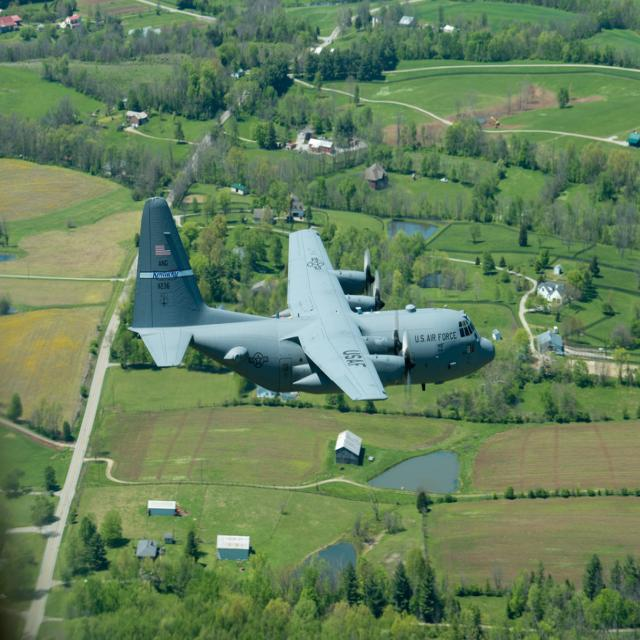MIL_Plane: (125, 164, 495, 370)
